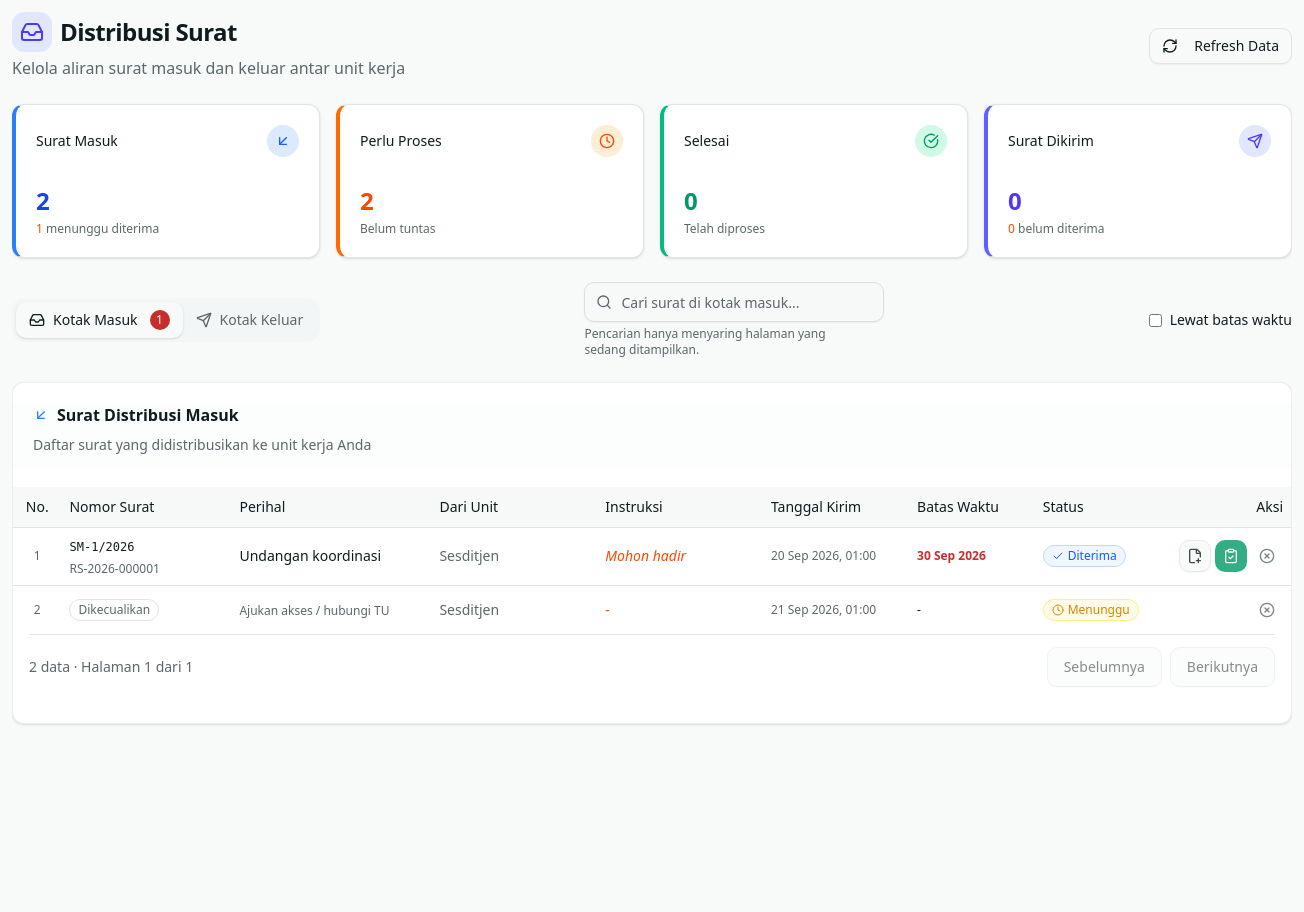
Test: Kotak Disposisi › baris tersamar tersembunyi saat ada kata kunci pencarian
Expected: the link "SM-1/2026" is shown, left=70, top=540, right=134, bottom=554
In the field with placeholder "Cari surat di kotak masuk...": coordinates (734, 302) left=584, top=282, right=884, bottom=322, type "Undangan"
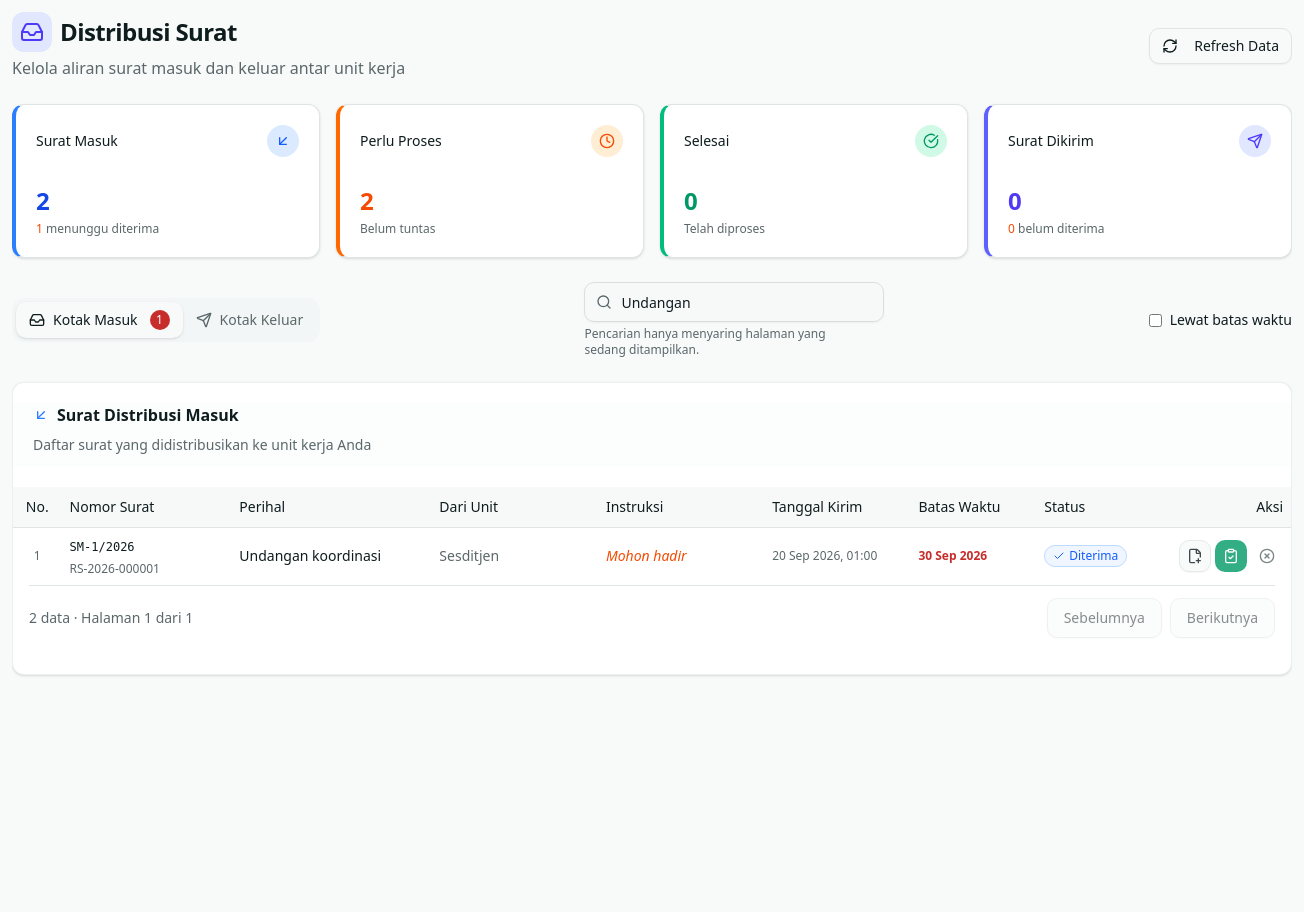
Expected: the text "Dikecualikan" is gone
